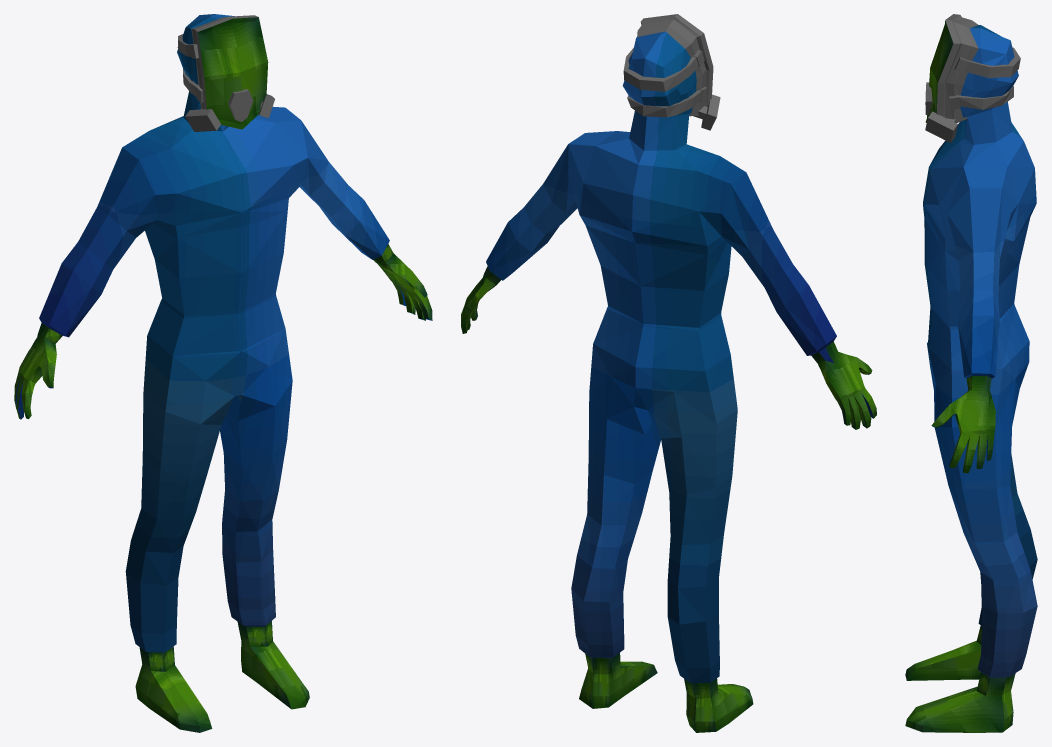
The model's file is player04.gltf.
3 renders of one model, left to right at view 1: azimuth 30°, elevation 25°; view 2: azimuth 150°, elevation 25°; view 3: azimuth 270°, elevation 25°, orthographic.
Bounding box in the file's own units: 1.39 × 2.22 × 0.3917.
